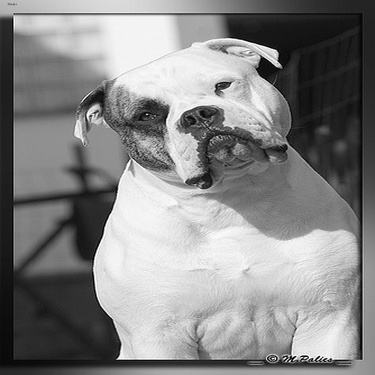dog: (54, 34, 357, 357)
